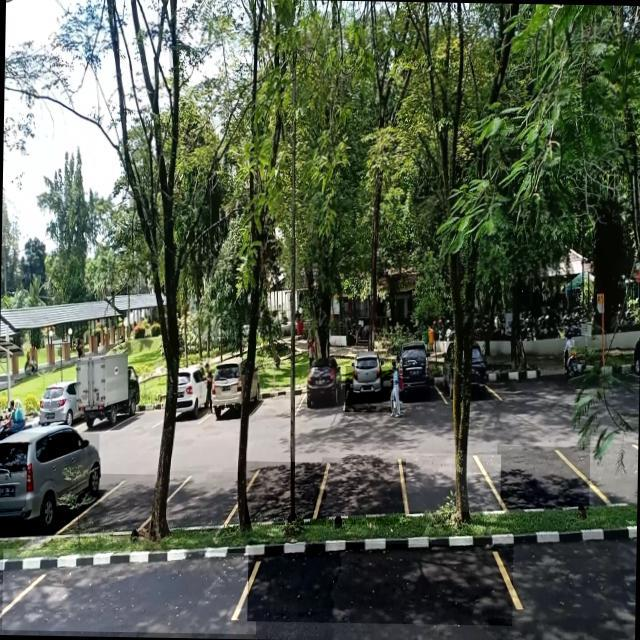empty: (247, 541, 513, 625), (2, 548, 257, 634), (496, 446, 590, 510), (402, 453, 501, 512), (321, 458, 406, 525), (245, 461, 326, 525), (83, 473, 155, 536), (168, 471, 240, 532), (255, 384, 299, 422)
occupied: (0, 432, 99, 538), (300, 367, 348, 420), (344, 366, 394, 413)
